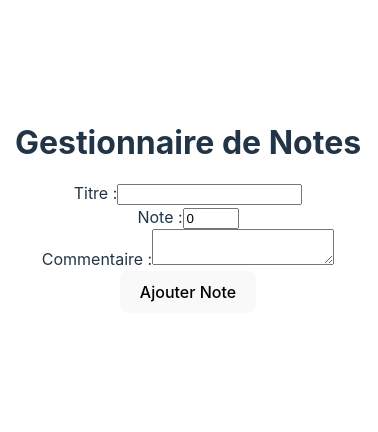
Test case: Notes App.tsx tests › notes list should have 1 element
Type "test" into the field with test id "note-title".
click(210, 195); type("test")  # box [117,184,302,205]
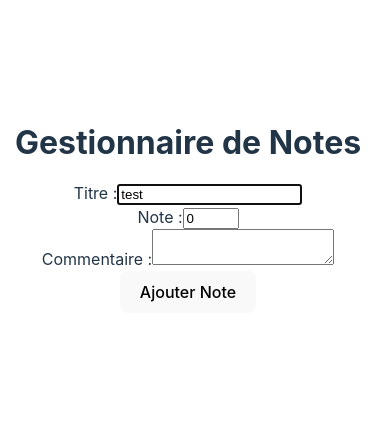
Type "15" into the number field with test id "note-number".
click(211, 219); type("15")  # box [183,208,239,229]
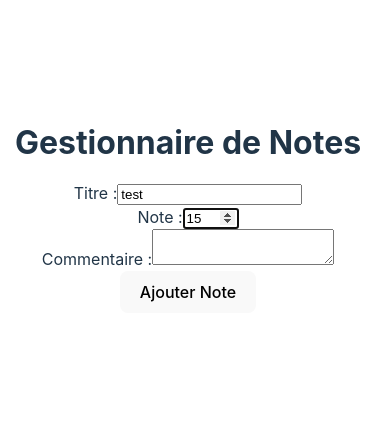
Type "Hello world" into the text box with test id "note-comment".
click(243, 247); type("Hello world")  # box [152,229,334,265]
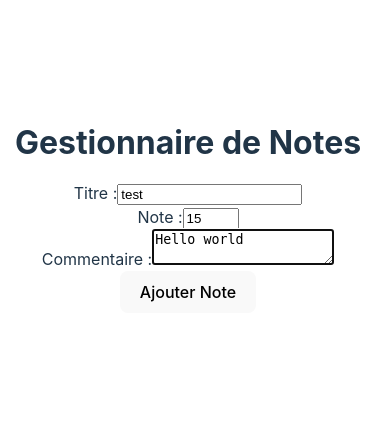
Click the button with test id "note-button".
click(188, 292)  # box [120,271,256,313]
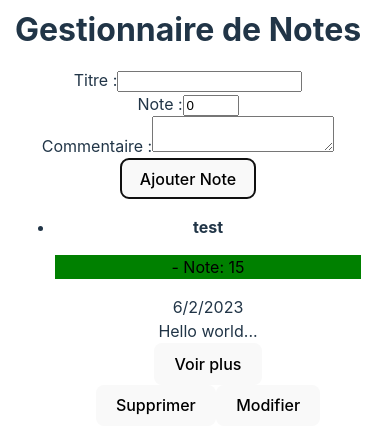
Check: the list with test id "note-list" shows "test", box [193,217,223,237]
Check: the list with test id "note-list" shows "15", box [228,257,244,277]
Check: the list with test id "note-list" shows "Hello world", box [158,321,244,341]
